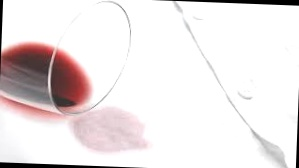wine: (66, 100, 156, 154)
